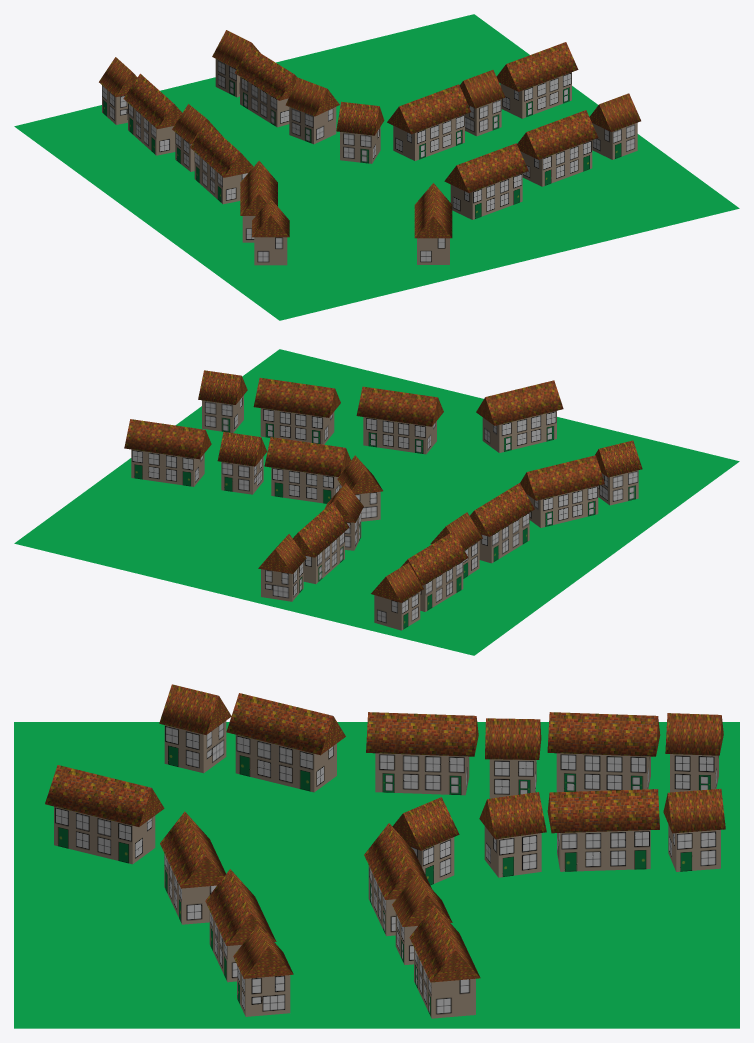
Rendered from village.glb.
The picture shows the model from 3 angles, top to bottom: view 1: azimuth 30°, elevation 25°; view 2: azimuth 150°, elevation 25°; view 3: azimuth 270°, elevation 25°; orthographic projection. The views are drawn at different scales.
Parts seen in each view (by area): view 1: ground, box_merged (×2), house2, house6, house4, house9, house11, house13, house8, house3, house7, house5 (+5 smaller); view 2: ground, box_merged (×2), house2, house4, house3, house6, house15, house11, house13, house9, house5, house14 (+5 smaller); view 3: ground, house15, house3, house11, house9, house13, box_merged (×2), house4, house16, house2, house8, house10 (+5 smaller).
Boxes of the visible parts, bbox=[...] form: ground: bbox=[14, 14, 739, 320]; box_merged (×2): bbox=[517, 93, 640, 186]; house2: bbox=[444, 143, 528, 219]; house6: bbox=[387, 84, 470, 160]; house4: bbox=[496, 42, 578, 118]; house9: bbox=[235, 47, 297, 127]; house11: bbox=[190, 122, 253, 204]; house13: bbox=[123, 73, 182, 155]; house8: bbox=[285, 77, 339, 144]; house3: bbox=[414, 183, 452, 264]; house7: bbox=[336, 101, 384, 163]; house5: bbox=[459, 70, 505, 136]; ground: bbox=[14, 349, 739, 655]; box_merged (×2): bbox=[198, 370, 340, 444]; house2: bbox=[356, 386, 443, 454]; house4: bbox=[124, 419, 211, 486]; house3: bbox=[476, 380, 563, 452]; house6: bbox=[264, 437, 350, 503]; house15: bbox=[520, 455, 604, 527]; house11: bbox=[470, 483, 534, 563]; house13: bbox=[400, 531, 468, 611]; house9: bbox=[293, 502, 349, 583]; house5: bbox=[217, 432, 267, 494]; house14: bbox=[371, 562, 423, 630]; ground: bbox=[14, 722, 739, 1028]; house15: bbox=[226, 693, 345, 792]; house3: bbox=[45, 765, 164, 864]; house11: bbox=[366, 712, 478, 795]; house9: bbox=[547, 789, 659, 871]; house13: bbox=[547, 712, 660, 792]; box_merged (×2): bbox=[205, 869, 293, 1016]; house4: bbox=[409, 905, 480, 1018]; house16: bbox=[159, 684, 231, 773]; house2: bbox=[160, 811, 225, 924]; house8: bbox=[479, 792, 546, 877]; house10: bbox=[663, 788, 725, 871].
Size of the model in its own units: 16 by 1.71 by 16.
5 materials, 4 textured.
